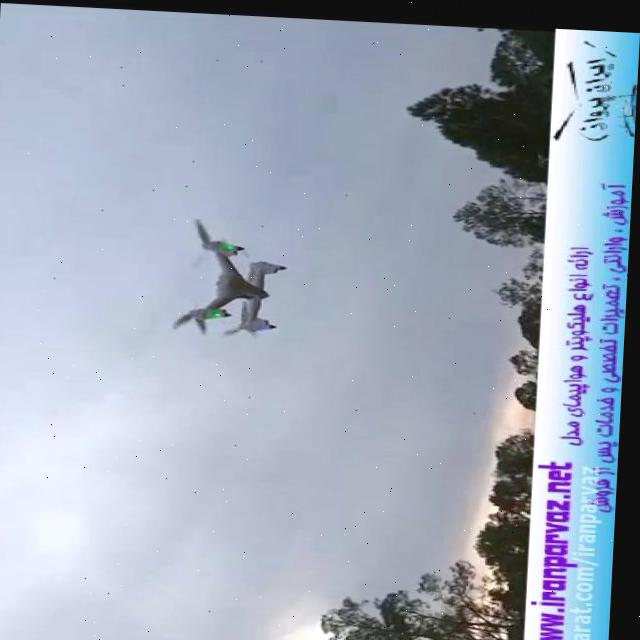drone: (165, 211, 292, 342)
